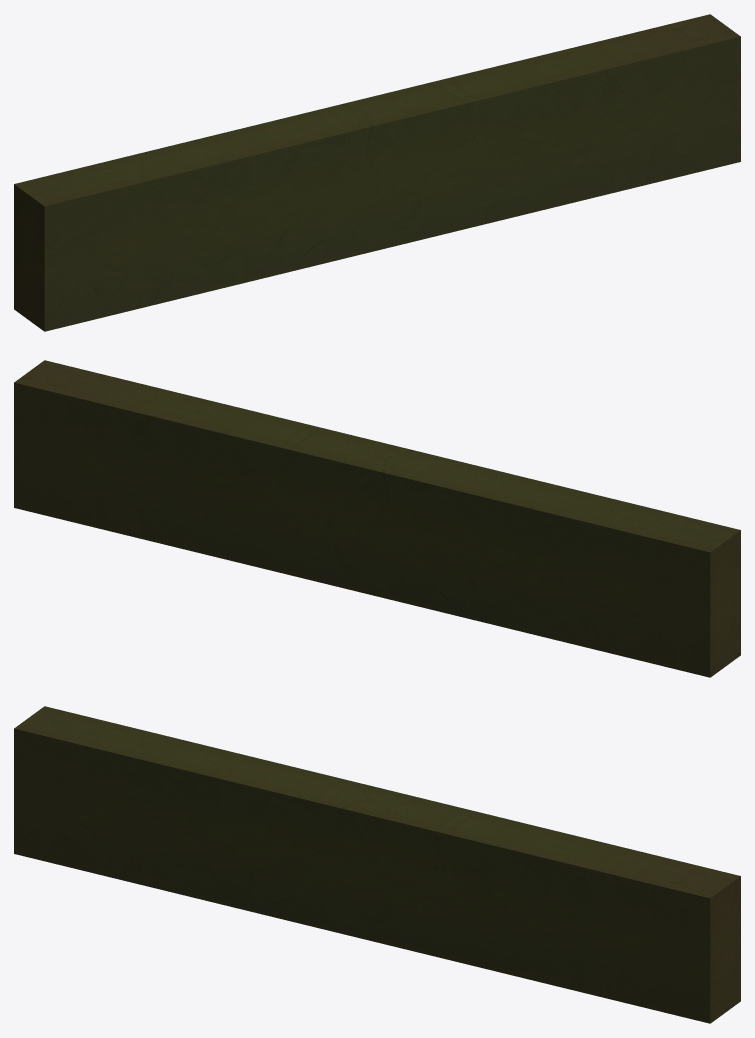
File: SM_BigWall_Beam_B.glb
3 renders of one model, top to bottom at view 1: azimuth 30°, elevation 25°; view 2: azimuth 150°, elevation 25°; view 3: azimuth 330°, elevation 25°, orthographic.
Parts seen in each view (by area): view 1: SM_BigWall_Beam_B; view 2: SM_BigWall_Beam_B; view 3: SM_BigWall_Beam_B.
Part boxes in pixels (bbox=[...]): SM_BigWall_Beam_B: bbox=[14, 14, 740, 331]; SM_BigWall_Beam_B: bbox=[14, 360, 740, 677]; SM_BigWall_Beam_B: bbox=[14, 706, 740, 1023].
Bounding box in the file's own units: 2 × 0.3438 × 0.1524.
Materials: 1 (1 with a texture image).
